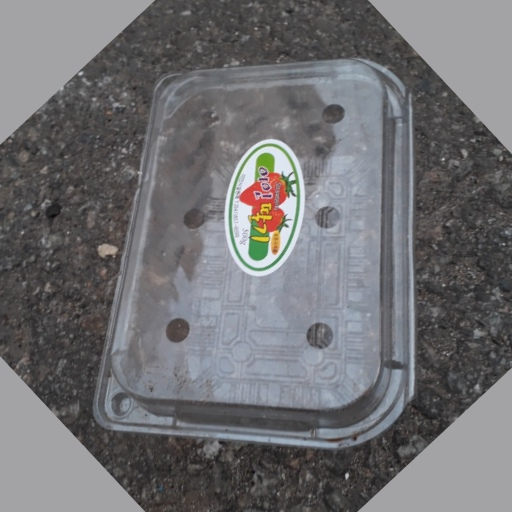Plastic_4: (94, 55, 417, 450)
